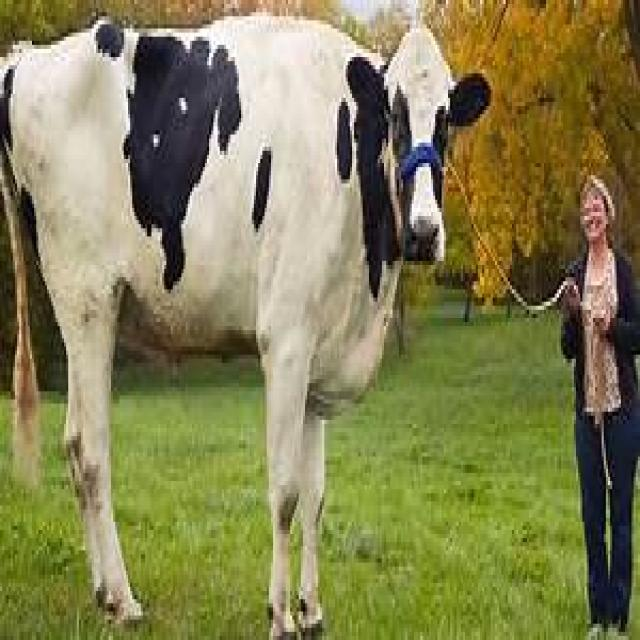cow: (0, 16, 486, 639)
